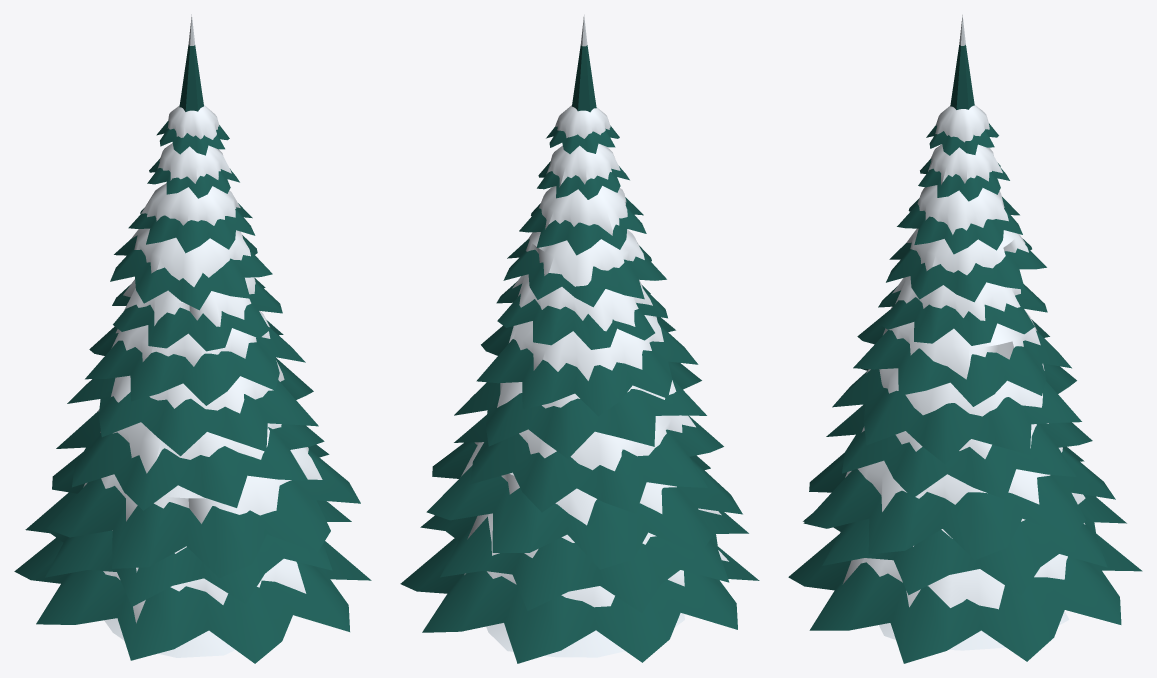
The model's file is tree_frost_c.glb.
The picture shows the model from 3 angles, left to right: view 1: azimuth 30°, elevation 25°; view 2: azimuth 150°, elevation 25°; view 3: azimuth 270°, elevation 25°; orthographic projection.
Parts seen in each view (by area): view 1: tree_frost_c; view 2: tree_frost_c; view 3: tree_frost_c.
Boxes of the visible parts, x1,y1,x2,y2 form: tree_frost_c: (14,14,371,663); tree_frost_c: (400,14,759,663); tree_frost_c: (788,15,1142,663).
Bounding box in the file's own units: 2.91 × 5.47 × 2.96.
